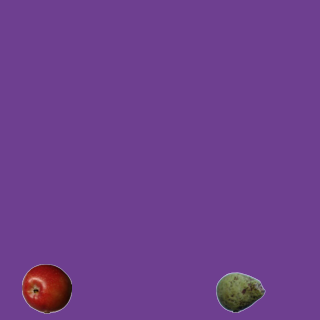Apple Braeburn: (21, 263, 71, 313)
Pear Stone: (215, 267, 265, 317)
